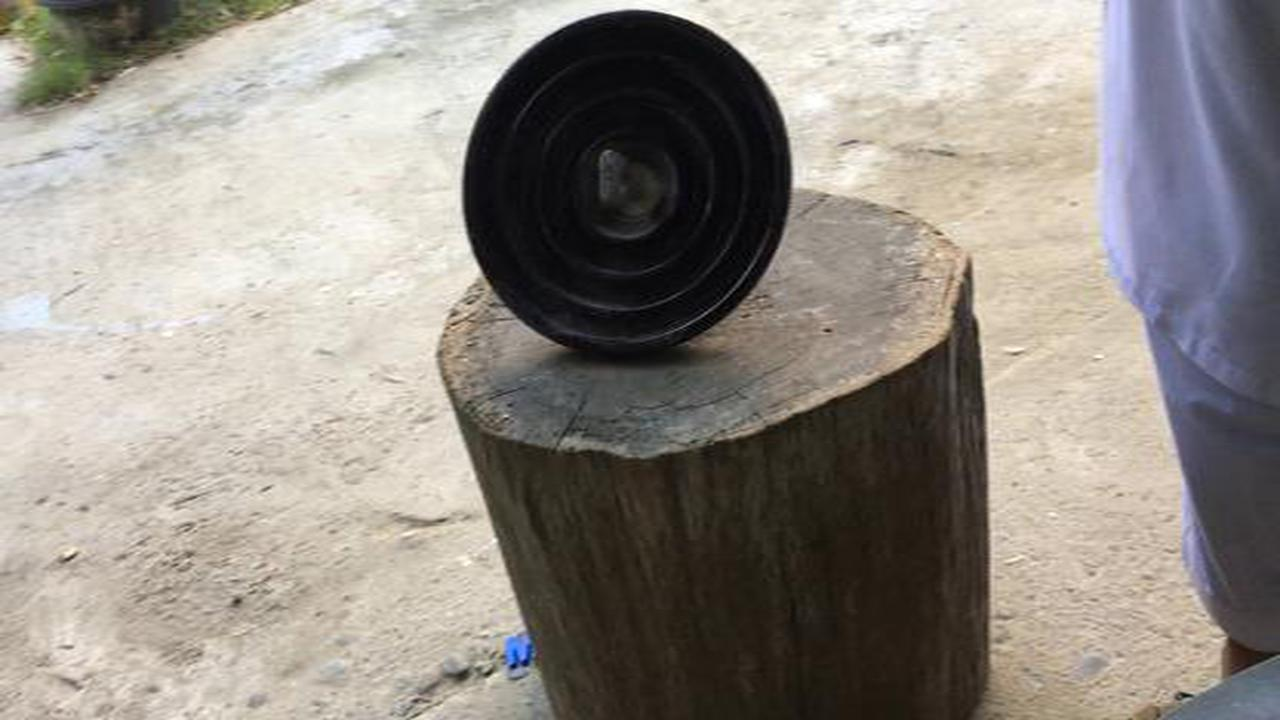insulator_disc: (459, 7, 796, 366)
